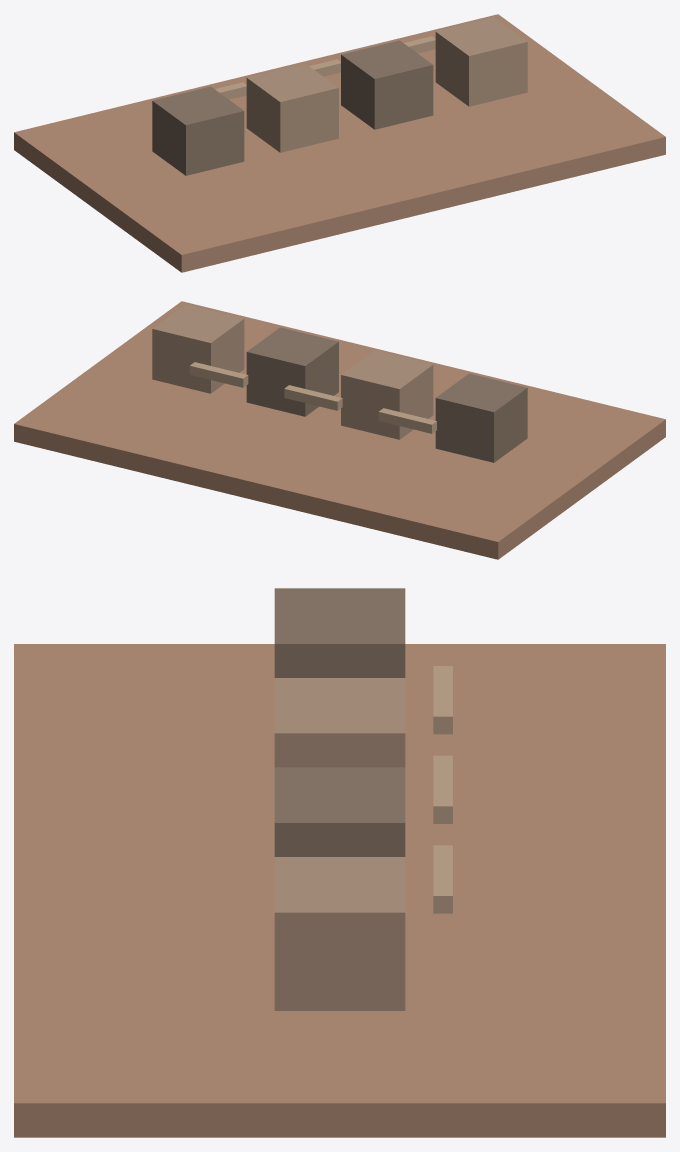
File: ts_3a5d419028a3_canonical.glb
The picture shows the model from 3 angles, top to bottom: view 1: azimuth 30°, elevation 25°; view 2: azimuth 150°, elevation 25°; view 3: azimuth 270°, elevation 25°; orthographic projection. The views are drawn at different scales.
Parts seen in each view (by area): view 1: substrate: piezoelectric energy-harvesting floor tile, [01] load path / structural backbone, [03] guidance / bearing interfaces, [02] actuation or compliance element, [04] fatigue-critical features register; view 2: substrate: piezoelectric energy-harvesting floor tile, [01] load path / structural backbone, [04] fatigue-critical features register, [02] actuation or compliance element, [03] guidance / bearing interfaces, flow 3 -> 4, flow 2 -> 3, flow 1 -> 2; view 3: substrate: piezoelectric energy-harvesting floor tile, [04] fatigue-critical features register, [01] load path / structural backbone, [03] guidance / bearing interfaces, [02] actuation or compliance element, flow 1 -> 2, flow 2 -> 3, flow 3 -> 4.
Part boxes in pixels (left/top/right/bottom): substrate: piezoelectric energy-harvesting floor tile: left=14, top=14, right=665, bottom=272; [01] load path / structural backbone: left=152, top=86, right=244, bottom=175; [03] guidance / bearing interfaces: left=341, top=40, right=433, bottom=129; [02] actuation or compliance element: left=246, top=63, right=338, bottom=152; [04] fatigue-critical features register: left=435, top=17, right=527, bottom=106; substrate: piezoelectric energy-harvesting floor tile: left=14, top=301, right=665, bottom=559; [01] load path / structural backbone: left=435, top=373, right=527, bottom=462; [04] fatigue-critical features register: left=152, top=304, right=244, bottom=393; [02] actuation or compliance element: left=341, top=350, right=433, bottom=439; [03] guidance / bearing interfaces: left=246, top=327, right=338, bottom=416; flow 3 -> 4: left=189, top=362, right=248, bottom=387; flow 2 -> 3: left=284, top=385, right=342, bottom=410; flow 1 -> 2: left=378, top=408, right=436, bottom=433; substrate: piezoelectric energy-harvesting floor tile: left=14, top=644, right=665, bottom=1137; [04] fatigue-critical features register: left=274, top=857, right=405, bottom=1010; [01] load path / structural backbone: left=274, top=588, right=405, bottom=677; [03] guidance / bearing interfaces: left=274, top=767, right=405, bottom=856; [02] actuation or compliance element: left=274, top=678, right=405, bottom=767; flow 1 -> 2: left=433, top=666, right=452, bottom=734; flow 2 -> 3: left=433, top=755, right=452, bottom=823; flow 3 -> 4: left=433, top=845, right=452, bottom=913.
Size of the model in its own units: 10 by 1.6 by 6.
